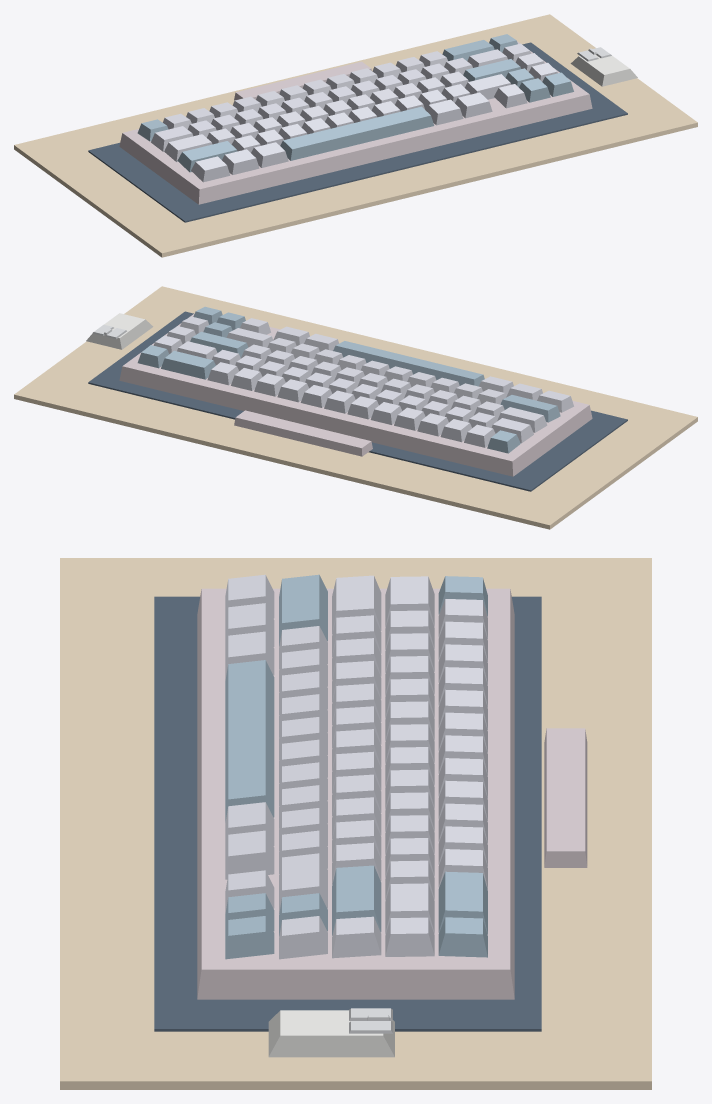
Rendered from keyboard_65_7b048fb8.glb.
3 renders of one model, top to bottom at view 1: azimuth 30°, elevation 25°; view 2: azimuth 150°, elevation 25°; view 3: azimuth 270°, elevation 25°, orthographic. The views are drawn at different scales.
Parts seen in each view (by area): view 1: desk, keyboard case, deskmat, key 62, mouse body, monitor stand, key 45, key 43, key 59, key 60, key 56, key 61 (+10 smaller); view 2: desk, keyboard case, deskmat, monitor stand, key 62, mouse body, key 14, key 45, key 43, key 31, key 16, key 56 (+20 smaller); view 3: desk, keyboard case, deskmat, key 62, monitor stand, mouse body, key 43, key 45, key 14, key 31, key 56, key 64 (+60 smaller).
Part boxes in pixels (x1,y1,x2,y2): desk: [14, 14, 697, 257]; keyboard case: [119, 41, 592, 204]; deskmat: [88, 42, 627, 222]; key 62: [280, 106, 434, 160]; mouse body: [570, 54, 637, 86]; monitor stand: [234, 61, 371, 100]; key 45: [177, 141, 237, 172]; key 43: [463, 59, 520, 81]; key 59: [191, 156, 230, 182]; key 60: [222, 149, 259, 174]; key 56: [465, 74, 511, 99]; key 61: [251, 142, 288, 167]; desk: [14, 286, 697, 529]; keyboard case: [119, 313, 592, 476]; deskmat: [88, 311, 627, 491]; monitor stand: [234, 410, 372, 456]; key 62: [333, 341, 484, 386]; mouse body: [86, 313, 153, 349]; key 14: [161, 350, 215, 379]; key 45: [500, 395, 560, 422]; key 43: [190, 331, 248, 357]; key 31: [497, 407, 547, 432]; key 16: [491, 418, 533, 443]; key 56: [226, 328, 273, 347]; desk: [60, 558, 651, 1089]; keyboard case: [197, 588, 514, 999]; deskmat: [154, 596, 541, 1031]; key 62: [225, 660, 274, 822]; monitor stand: [544, 728, 587, 867]; mouse body: [268, 1010, 394, 1057]; key 43: [332, 865, 381, 935]; key 45: [279, 574, 327, 646]; key 14: [438, 871, 487, 934]; key 31: [332, 575, 381, 633]; key 56: [279, 853, 327, 913]; key 64: [225, 830, 274, 879].
Bounding box in the file's own units: 23 × 1.54 × 11.
